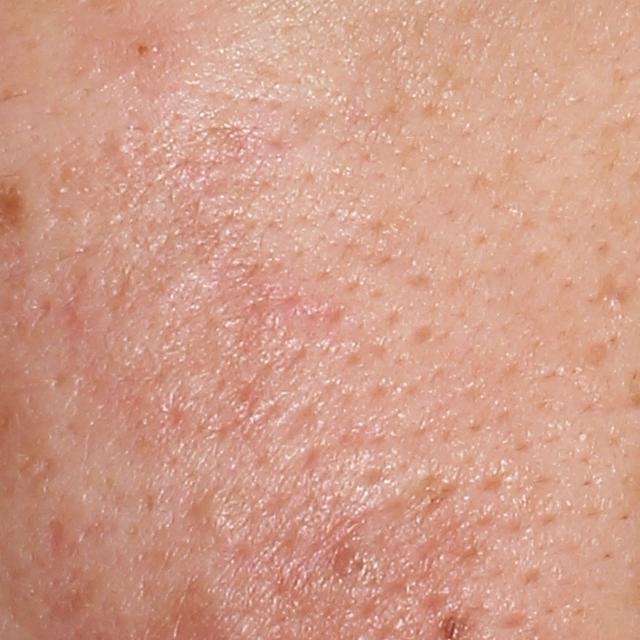atrophic_scar: (267, 390, 316, 452), (585, 270, 635, 312), (44, 510, 65, 565), (581, 339, 608, 371)
comedo: (185, 490, 228, 528), (111, 137, 130, 160)
